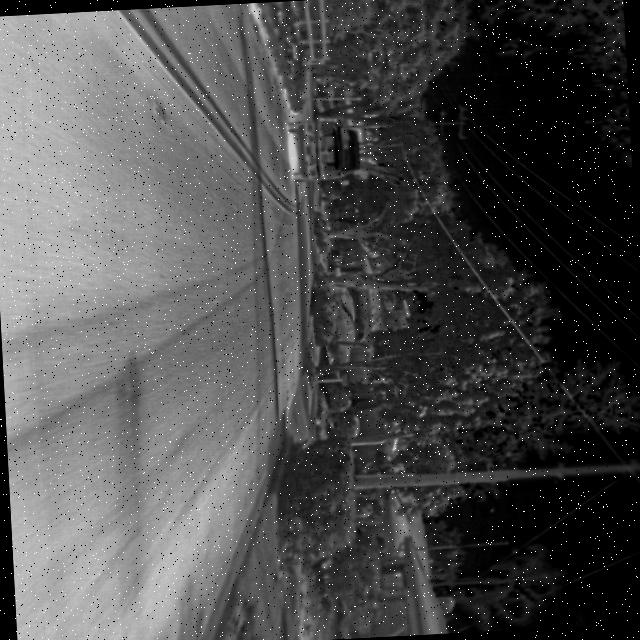Vehicle: (284, 114, 365, 186)
